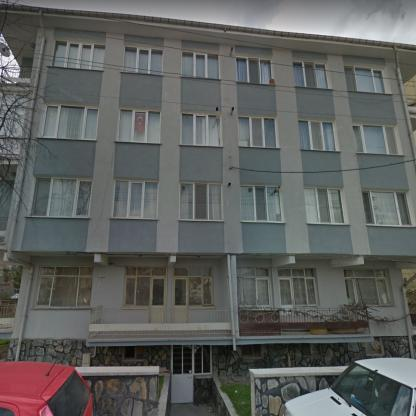door: (171, 346, 192, 403)
window: (30, 179, 92, 216), (36, 267, 92, 305), (43, 105, 98, 139), (112, 180, 158, 218), (362, 191, 412, 225), (344, 270, 390, 306), (124, 267, 166, 306), (52, 40, 105, 70), (180, 184, 223, 220), (240, 186, 283, 222), (174, 268, 213, 305), (304, 188, 345, 223), (118, 109, 160, 143), (353, 124, 399, 154), (279, 268, 317, 304), (182, 114, 220, 146), (238, 117, 277, 148), (237, 269, 269, 306), (344, 66, 385, 93), (299, 121, 337, 150), (124, 47, 164, 74), (182, 52, 218, 80), (293, 62, 329, 88), (236, 58, 271, 84), (194, 346, 212, 372)
